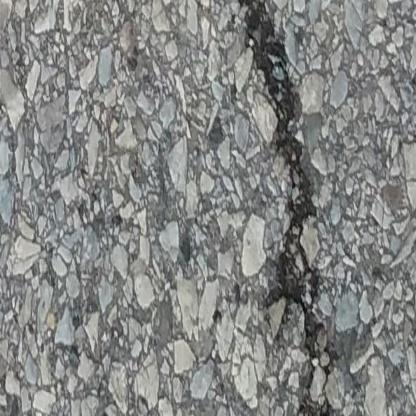Cracks: (232, 0, 340, 416)
